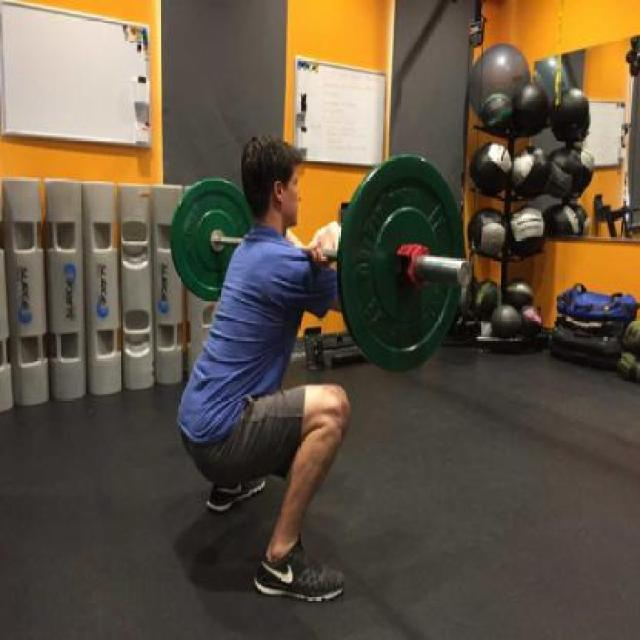barbell: (333, 146, 474, 382)
